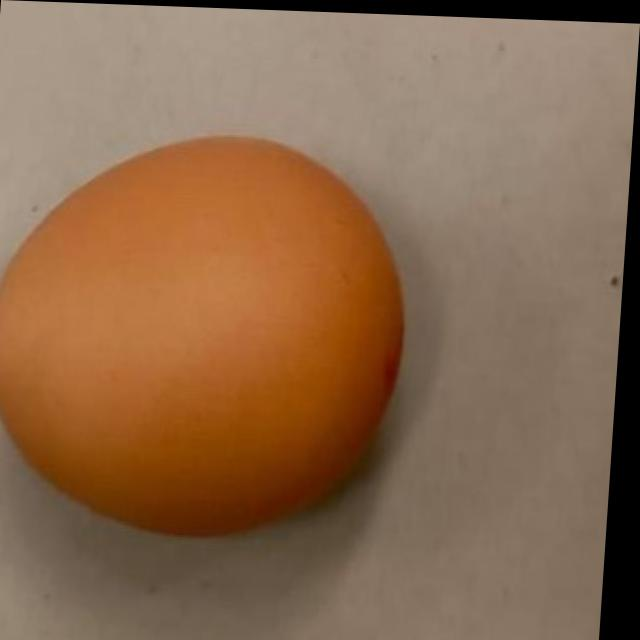fresh: (0, 127, 418, 540)
